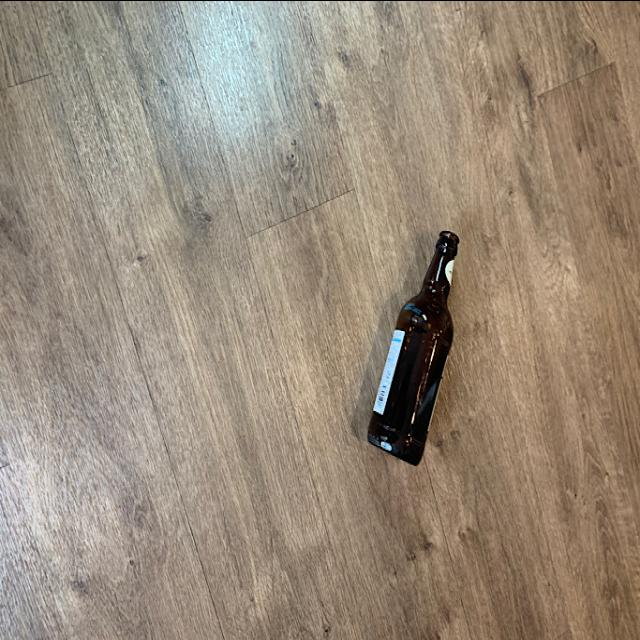Glass Bottle: (360, 225, 463, 469)
